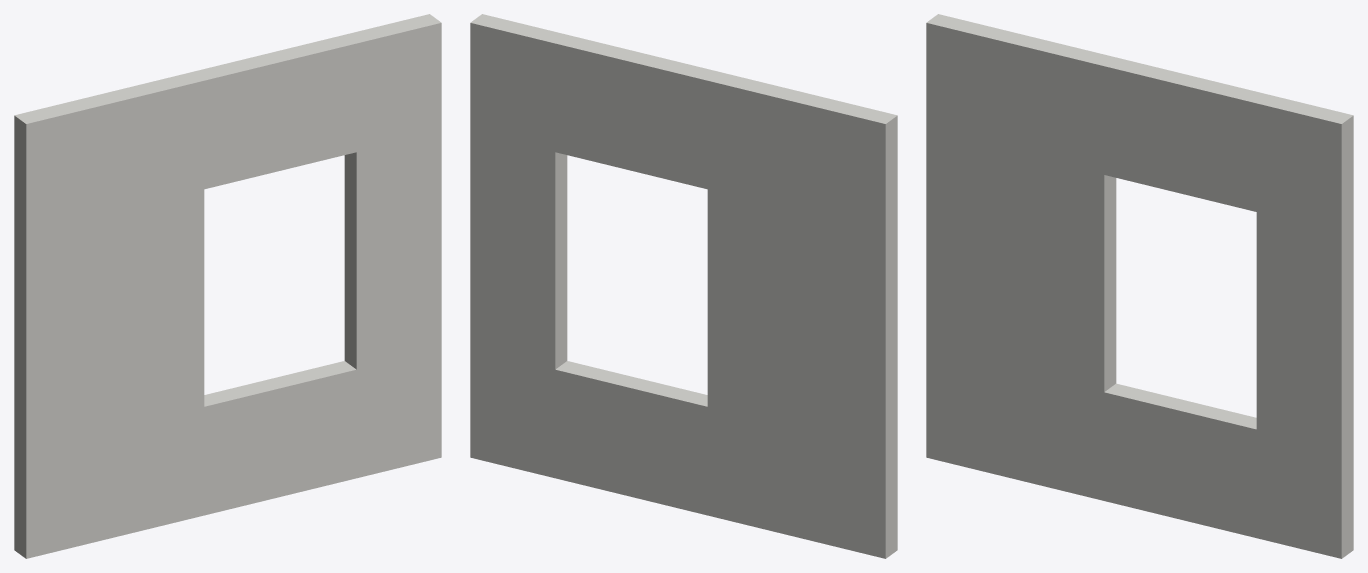
File: Wal_3_D.fbx
The picture shows the model from 3 angles, left to right: view 1: azimuth 30°, elevation 25°; view 2: azimuth 150°, elevation 25°; view 3: azimuth 330°, elevation 25°; orthographic projection.
Parts seen in each view (by area): view 1: pCube41; view 2: pCube41; view 3: pCube41.
Part boxes in pixels (left/top/right/bottom): pCube41: left=14, top=14, right=441, bottom=558; pCube41: left=470, top=14, right=897, bottom=558; pCube41: left=926, top=14, right=1353, bottom=558.
Size of the model in its own units: 4 by 4 by 0.2.
Materials: 1 (1 with a texture image).
